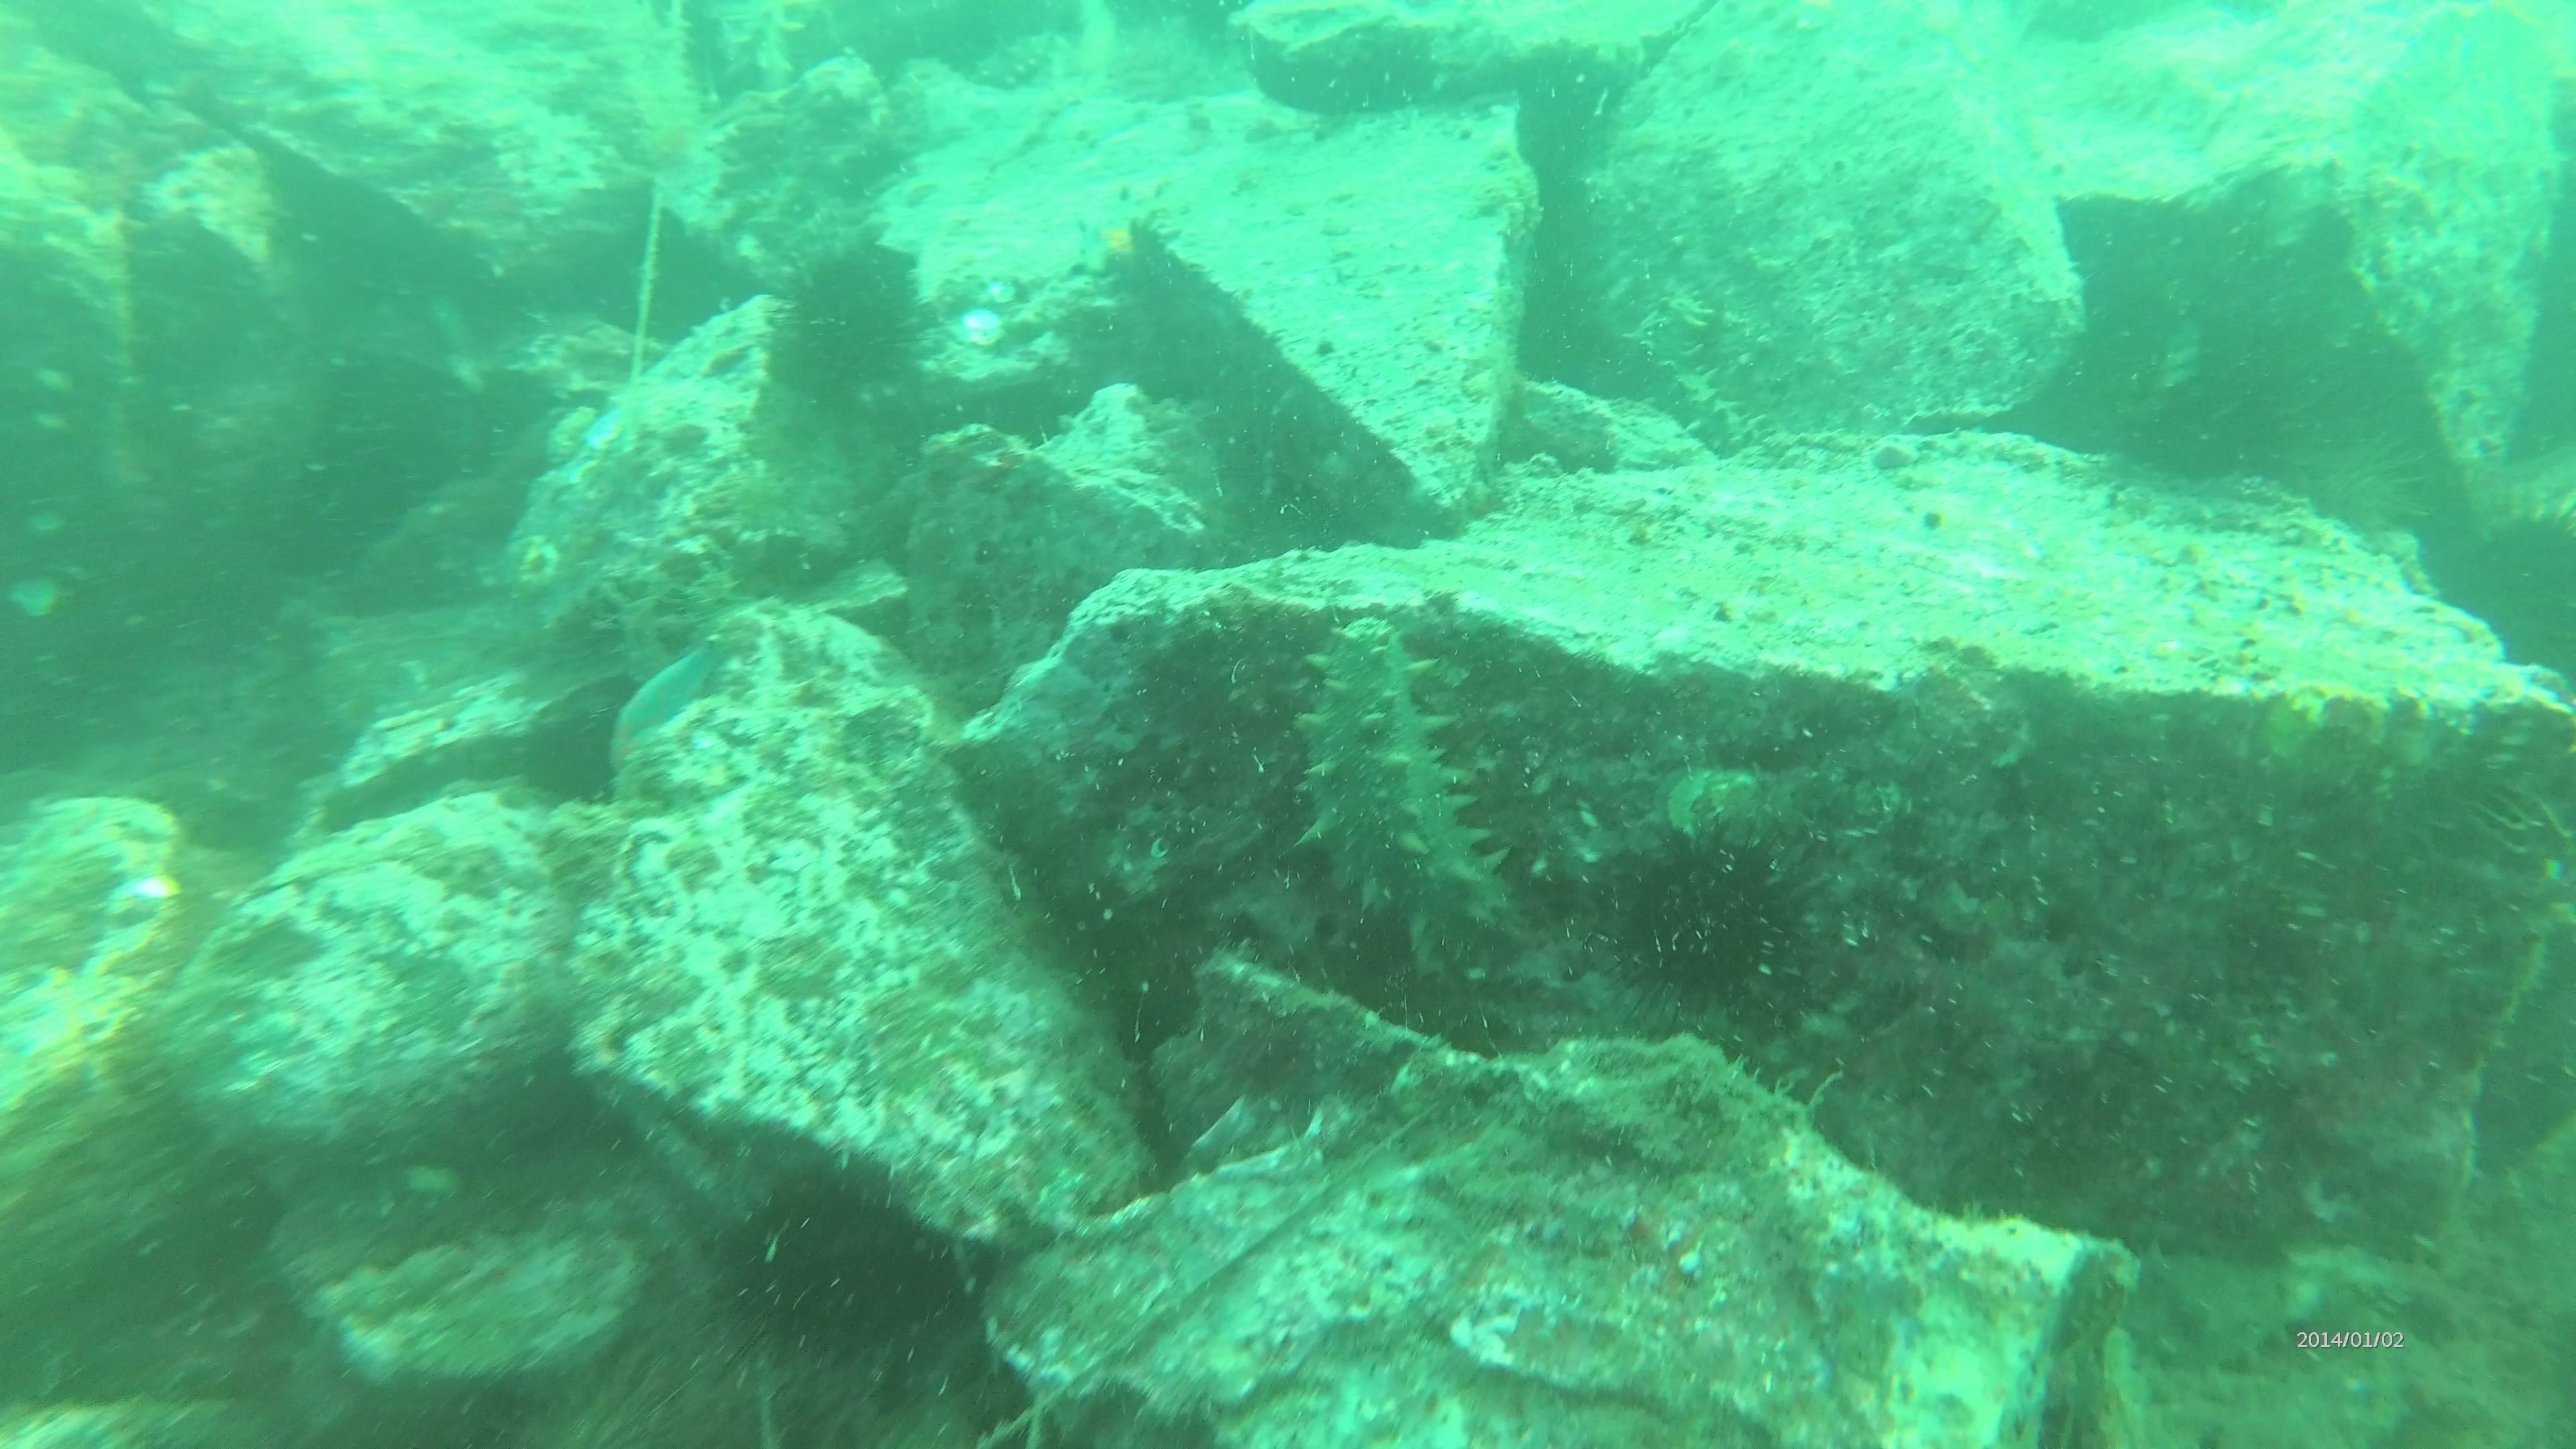echinus: (708, 1168, 964, 1369), (1596, 817, 1821, 1024), (763, 234, 932, 412), (2300, 426, 2426, 531)
holothurian: (1283, 614, 1536, 991), (1651, 349, 1767, 469), (1614, 287, 1711, 372)
starfish: (594, 633, 740, 810), (1065, 200, 1162, 290)
